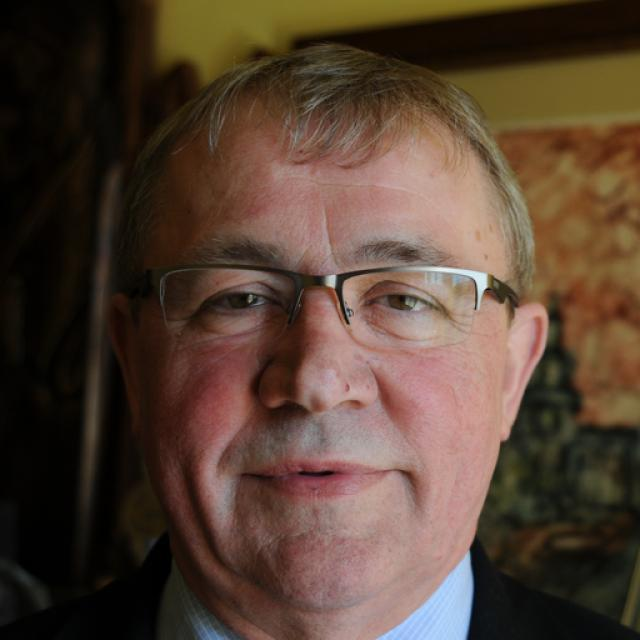content: (133, 136, 508, 615)
